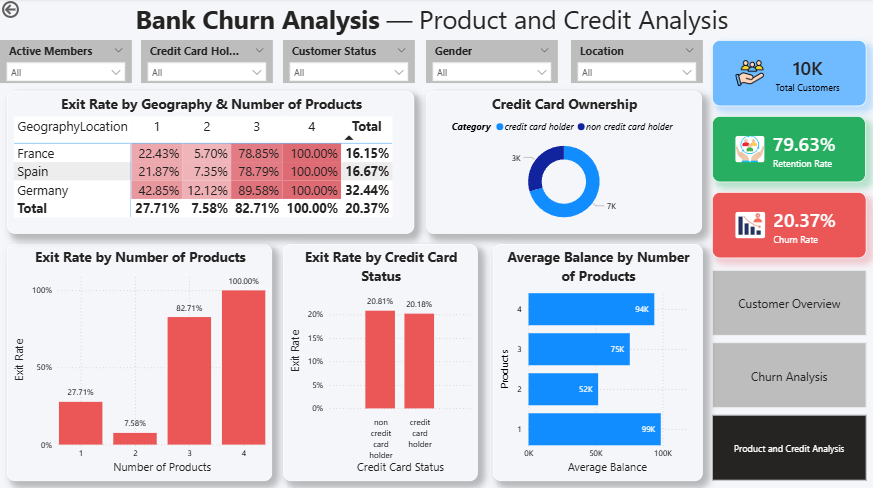

The dashboard page shown, as its layout file describes it:
{"tool":"powerbi","page":{"name":"Product and Credit Analysis","canvas":[1280,720],"ordinal":2},"visuals":[{"type":"donutChart","title":"Credit Card Ownership","fields":{"Category":["Credit_card.Category"],"Y":["Bank_Churn.Total Customers"]},"box":[625.4,135.5,403.6,209.5],"z":0},{"type":"columnChart","title":"Exit Rate by Number of Products","fields":{"Category":["Bank_Churn.Number_of_Products"],"Y":["Bank_Churn.Churn Rate"]},"box":[12.3,360.4,388.2,346.6],"z":1000},{"type":"pivotTable","title":"Exit Rate by Geography & Number of Products","fields":{"Values":["Bank_Churn.Churn Rate"],"Rows":["Geography.GeographyLocation"],"Columns":["Bank_Churn.Number_of_Products"]},"box":[12.3,135.5,596.1,209.5],"z":2000},{"type":"textbox","box":[194.1,0,884.1,61.6],"z":3000},{"type":"slicer","fields":{"Values":["ActiveCustomer.ActiveCategory"]},"box":[1.5,61.6,192.5,63.2],"z":4000},{"type":"slicer","fields":{"Values":["Credit_card.Category"]},"box":[207.9,61.6,192.5,63.2],"z":5000},{"type":"slicer","fields":{"Values":["ExitCustomer.ExitCategory"]},"box":[415.9,61.6,192.5,63.2],"z":6000},{"type":"slicer","fields":{"Values":["Gender.GenderCategory"]},"box":[625.4,61.6,192.5,63.2],"z":7000},{"type":"slicer","fields":{"Values":["Geography.GeographyLocation"]},"box":[836.4,61.6,192.5,63.2],"z":8000},{"type":"pageNavigator","box":[1042.8,397.4,226.4,309.6],"z":9000},{"type":"cardVisual","fields":{"Data":["Bank_Churn.Total_Customers"]},"box":[1042.8,61.6,226.4,97],"z":10000},{"type":"cardVisual","fields":{"Data":["Bank_Churn.% of Retention"]},"box":[1042.8,172.5,224.9,97],"z":11000},{"type":"cardVisual","fields":{"Data":["Bank_Churn.Churn Rate"]},"box":[1042.8,283.4,226.4,97],"z":12000},{"type":"columnChart","title":"Exit Rate by Credit Card Status","fields":{"Y":["Bank_Churn.Churn Rate"],"Category":["Credit_card.Category"]},"box":[415.9,360.4,285,346.6],"z":13000},{"type":"barChart","title":"Average Balance by Number of Products","fields":{"Y":["Bank_Churn.Avg_balance"],"Category":["Bank_Churn.Number_of_Products"]},"box":[722.4,360.4,306.5,346.6],"z":14000},{"type":"actionButton","box":[0,0,99.5,33.7],"z":14001}]}

Visuals, with their boxes in screenshot pixels (x1, y1, x2, y2), scaled from the page's 1280x720 canvas onto the 873x488 screenshot:
"Credit Card Ownership" donutChart: <region>427, 92, 702, 234</region>
"Exit Rate by Number of Products" columnChart: <region>8, 244, 273, 479</region>
"Exit Rate by Geography & Number of Products" pivotTable: <region>8, 92, 415, 234</region>
textbox: <region>132, 0, 735, 42</region>
slicer - ActiveCustomer.ActiveCategory: <region>1, 42, 132, 85</region>
slicer - Credit_card.Category: <region>142, 42, 273, 85</region>
slicer - ExitCustomer.ExitCategory: <region>284, 42, 415, 85</region>
slicer - Gender.GenderCategory: <region>427, 42, 558, 85</region>
slicer - Geography.GeographyLocation: <region>570, 42, 702, 85</region>
pageNavigator: <region>711, 269, 866, 479</region>
cardVisual - Bank_Churn.Total_Customers: <region>711, 42, 866, 107</region>
cardVisual - Bank_Churn.% of Retention: <region>711, 117, 865, 183</region>
cardVisual - Bank_Churn.Churn Rate: <region>711, 192, 866, 258</region>
"Exit Rate by Credit Card Status" columnChart: <region>284, 244, 478, 479</region>
"Average Balance by Number of Products" barChart: <region>493, 244, 702, 479</region>
actionButton: <region>0, 0, 68, 23</region>
